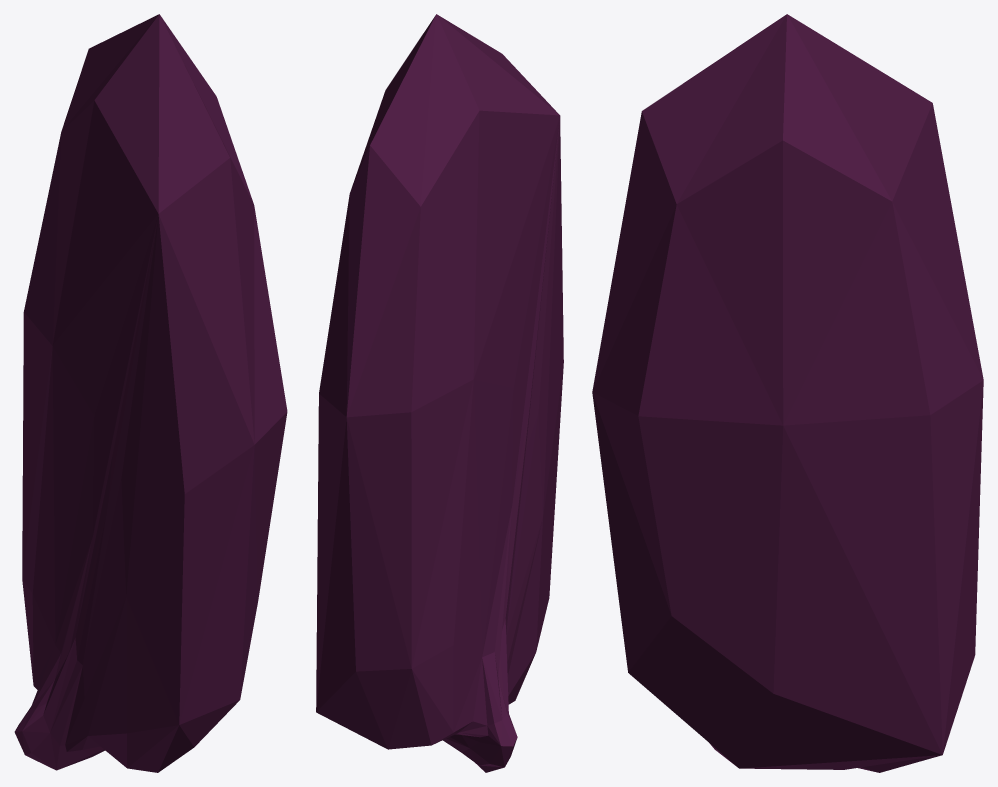
The picture shows the model from 3 angles, left to right: view 1: azimuth 30°, elevation 25°; view 2: azimuth 150°, elevation 25°; view 3: azimuth 270°, elevation 25°; orthographic projection. The views are drawn at different scales.
Parts seen in each view (by area): view 1: 308_Cube.1262; view 2: 308_Cube.1262; view 3: 308_Cube.1262.
Boxes of the visible parts, box(x1,y1,x2,y2) form: 308_Cube.1262: box(14, 14, 287, 772); 308_Cube.1262: box(316, 14, 563, 772); 308_Cube.1262: box(592, 14, 983, 772).
Bounding box in the file's own units: 3.19 × 12.34 × 5.58.
